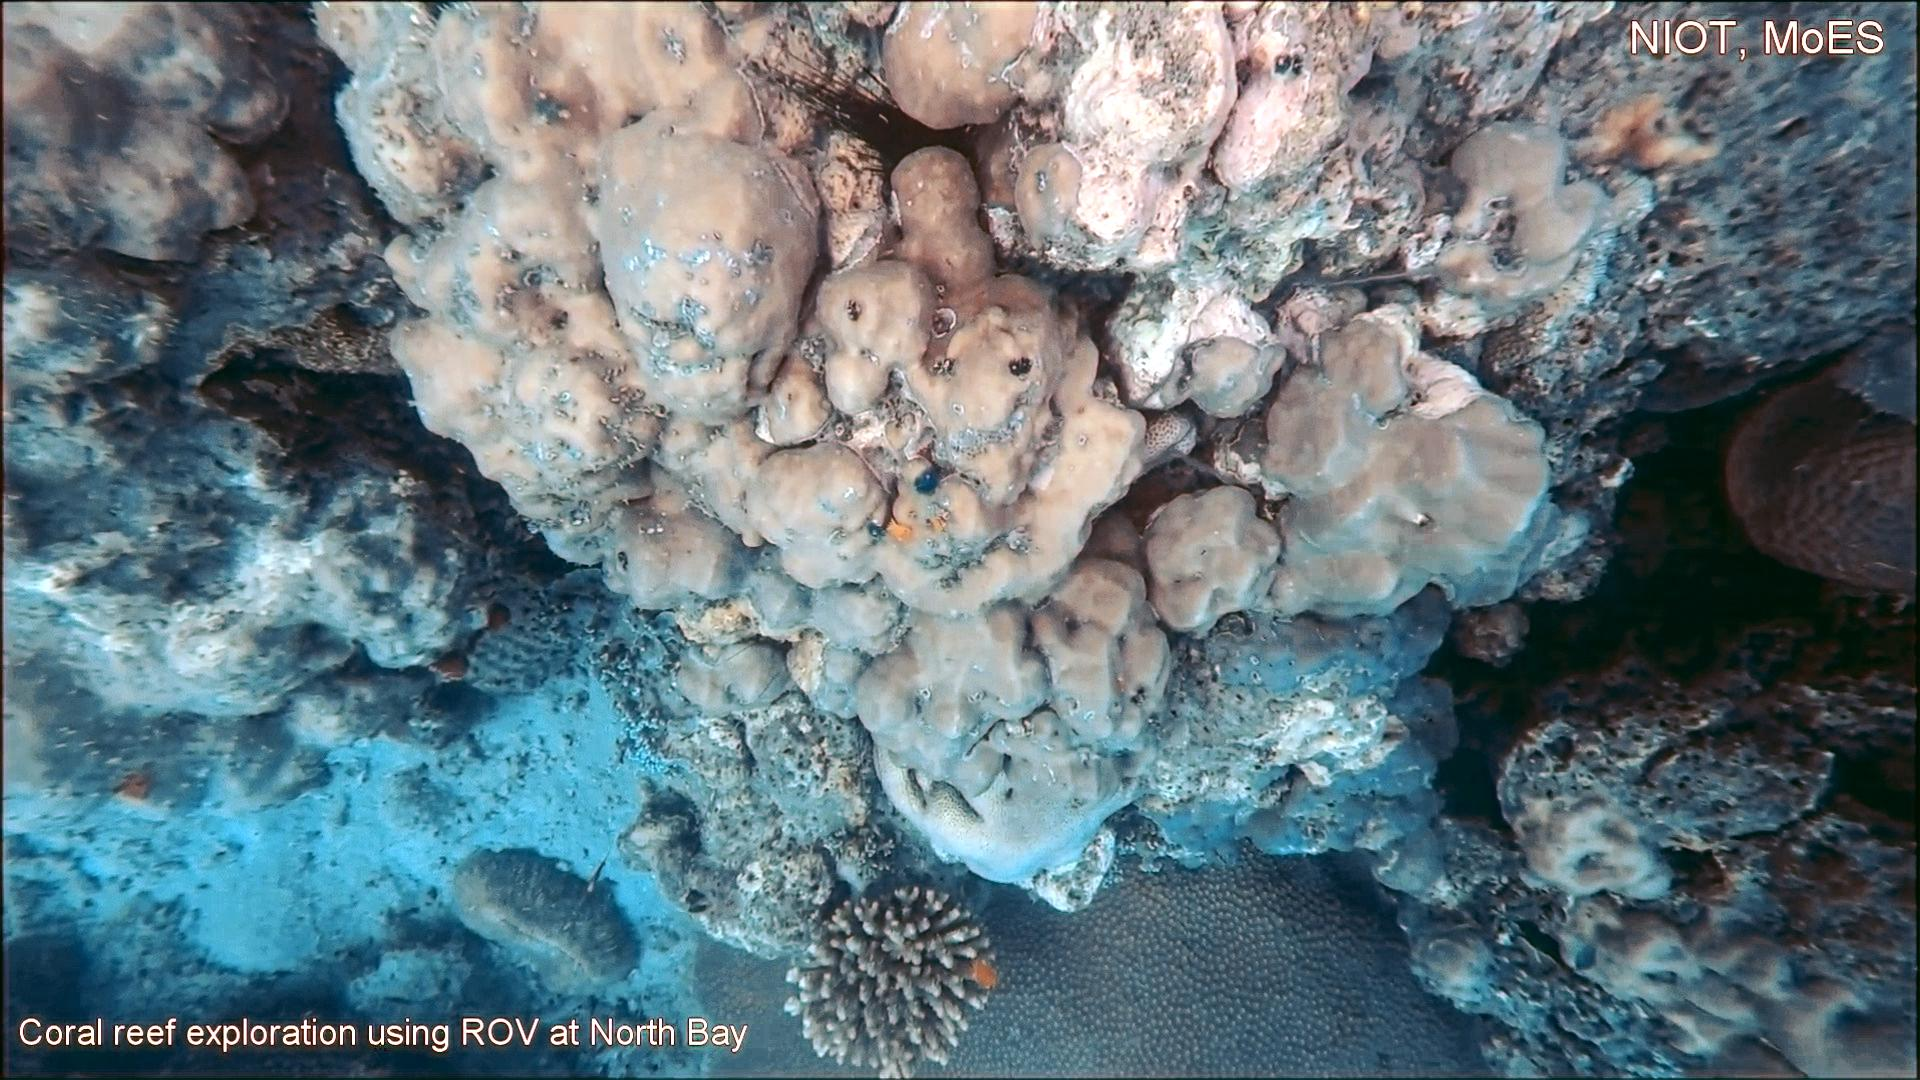Meandrina meandrites: (1714, 356, 1920, 607)
